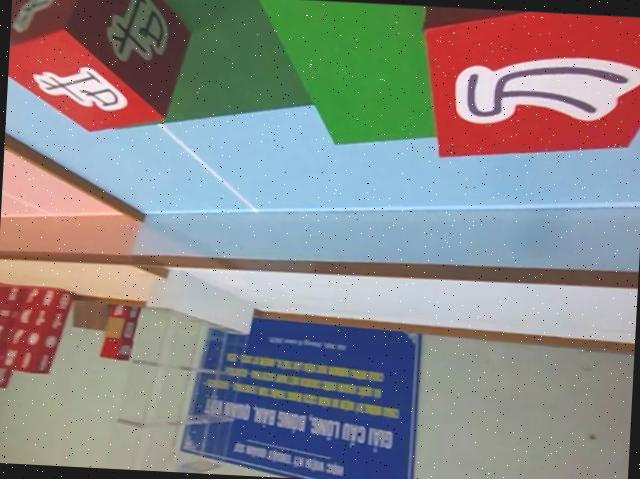R2 Fake: (417, 5, 640, 170)
R2 Real: (5, 0, 196, 137)
